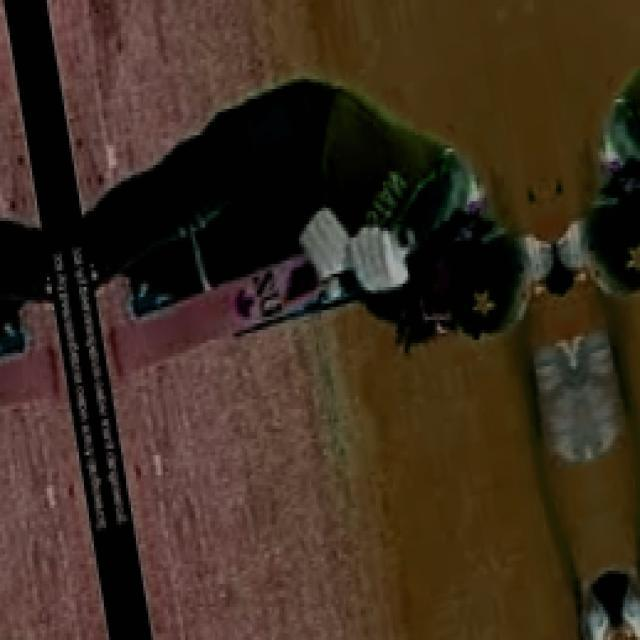bat: (101, 250, 337, 389)
toe: (111, 328, 125, 381)
